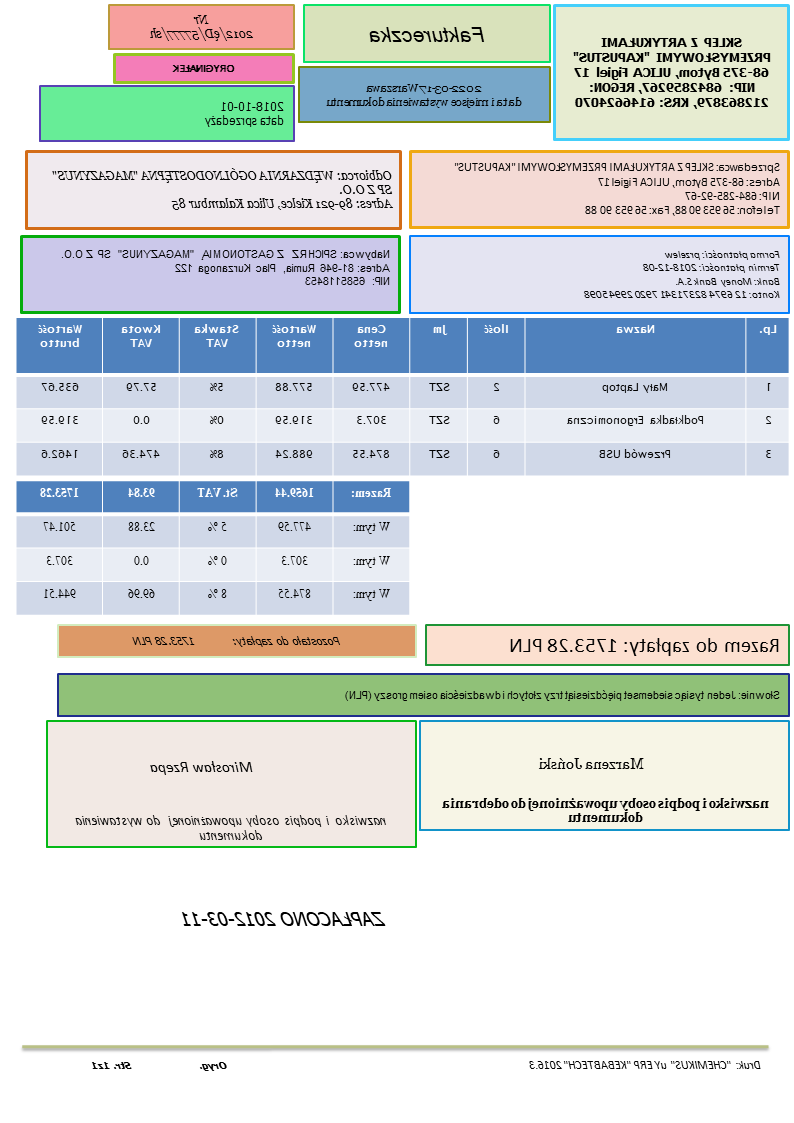Table: (14, 315, 791, 478), (14, 477, 411, 614)
TextBox: (454, 156, 784, 219), (49, 164, 395, 214), (571, 31, 775, 112), (60, 245, 392, 289), (581, 246, 783, 302), (440, 794, 772, 826), (73, 810, 390, 843), (341, 686, 784, 705), (508, 632, 784, 658), (324, 79, 525, 111), (176, 904, 388, 931), (524, 1055, 764, 1073), (129, 631, 345, 650), (148, 11, 256, 44), (367, 21, 489, 49), (205, 96, 287, 129), (537, 751, 649, 774), (89, 1057, 231, 1074), (147, 755, 256, 777), (173, 59, 238, 76)
